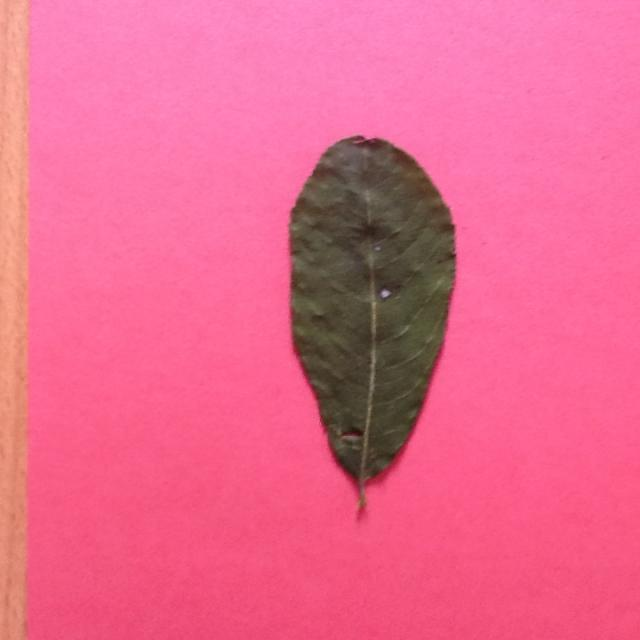foliage: (288, 133, 457, 518)
